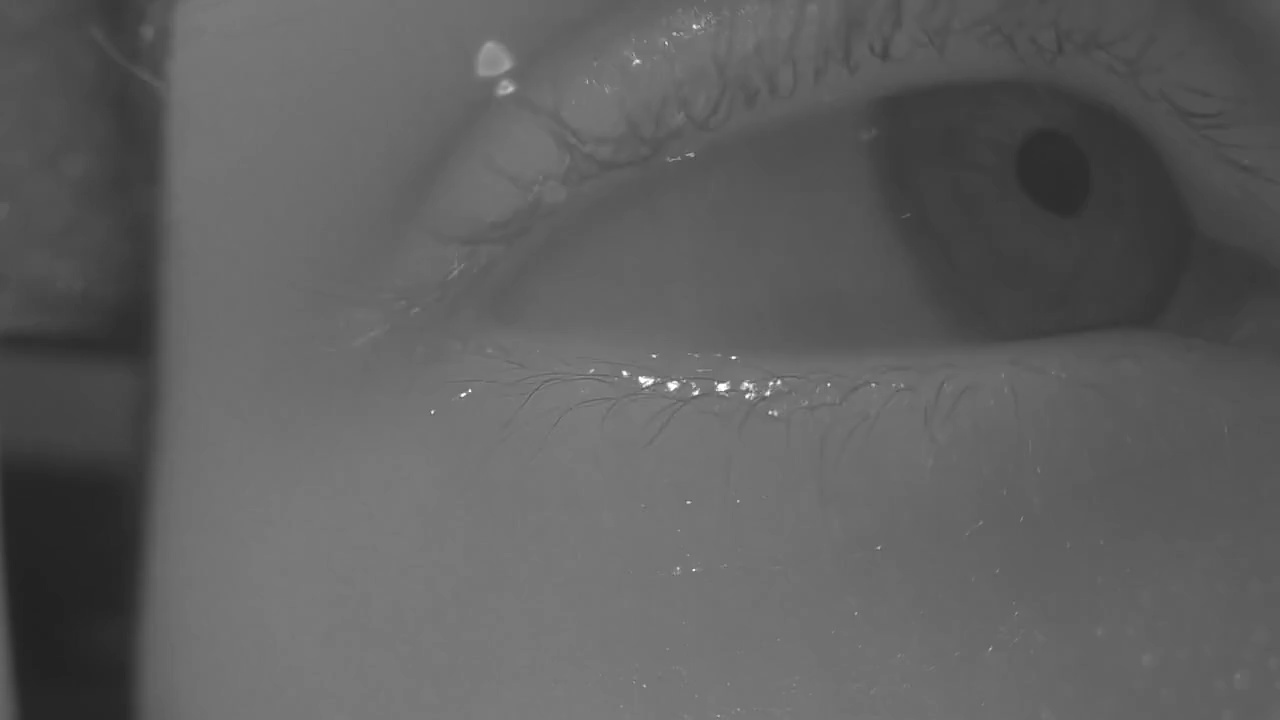pupil: (1017, 127, 1094, 219)
